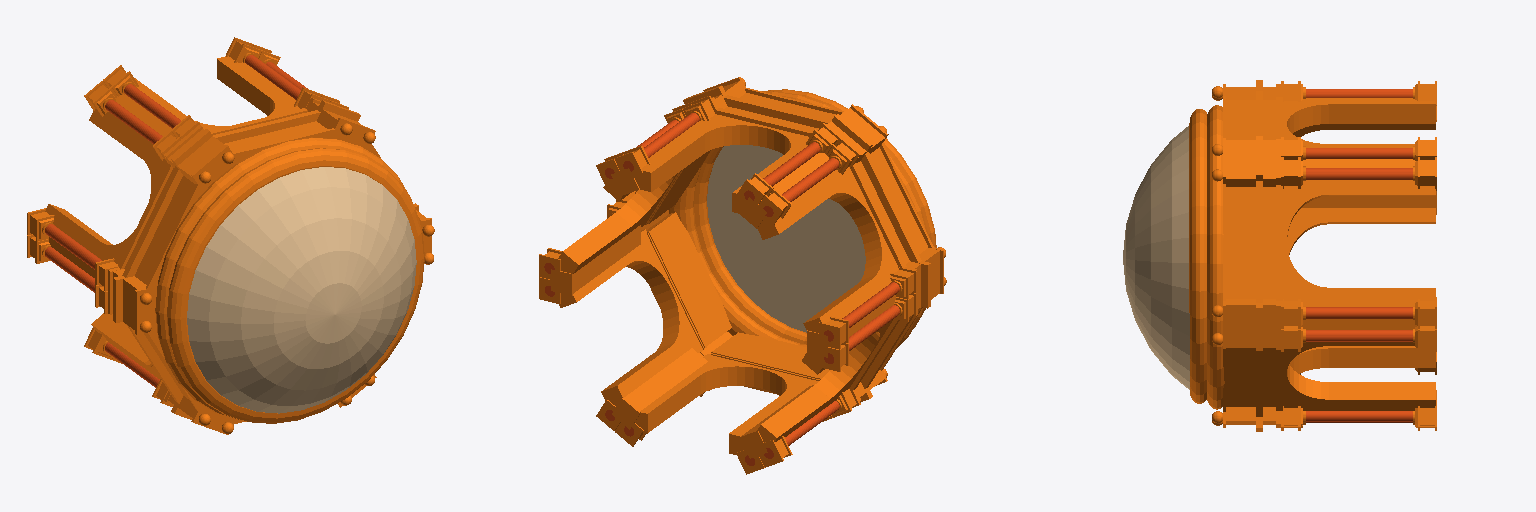
Rendered from tinker.obj.
The picture shows the model from 3 angles: view 1: azimuth 30°, elevation 25°; view 2: azimuth 150°, elevation 25°; view 3: azimuth 270°, elevation 25°; orthographic projection.
Parts seen in each view (by area): view 1: obj_0; view 2: obj_0; view 3: obj_0.
Part boxes in pixels (x1,y1,x2,y2): obj_0: (27,37,434,434); obj_0: (539,77,946,474); obj_0: (1123,80,1436,431).
Bounding box in the file's own units: 145 × 135 × 130.